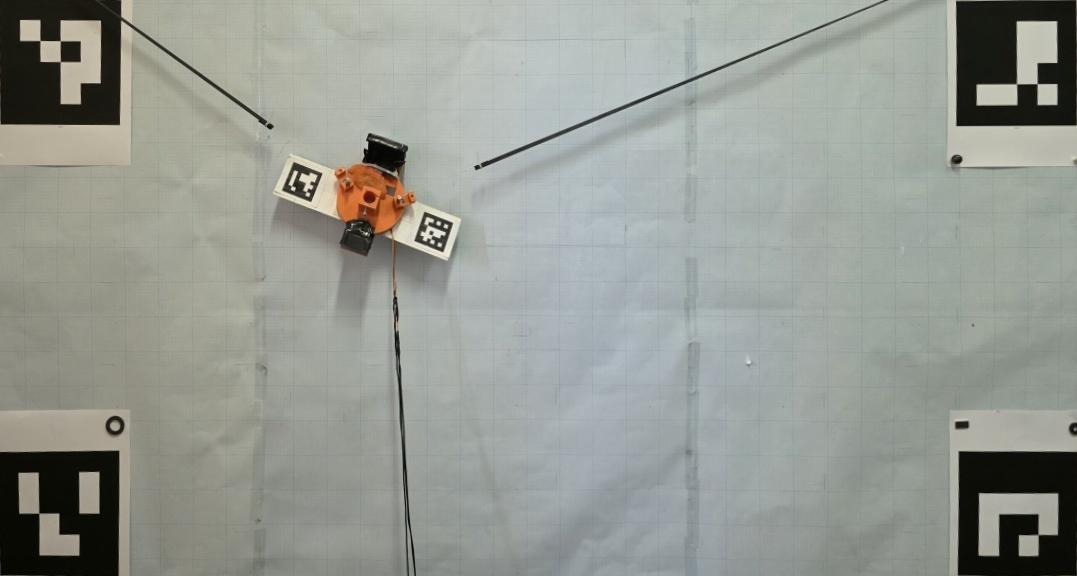robot: (333, 131, 417, 256)
